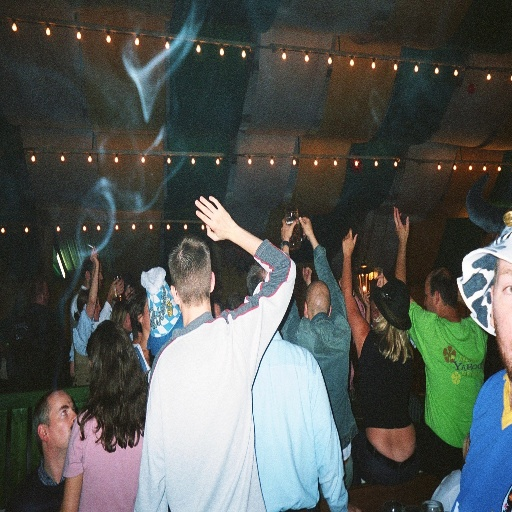hand: (195, 194, 241, 250), (392, 203, 411, 245), (339, 228, 358, 257), (279, 215, 296, 245), (108, 275, 125, 299), (298, 216, 313, 242), (88, 246, 100, 267), (300, 266, 312, 286), (354, 297, 364, 320), (375, 270, 386, 287)
